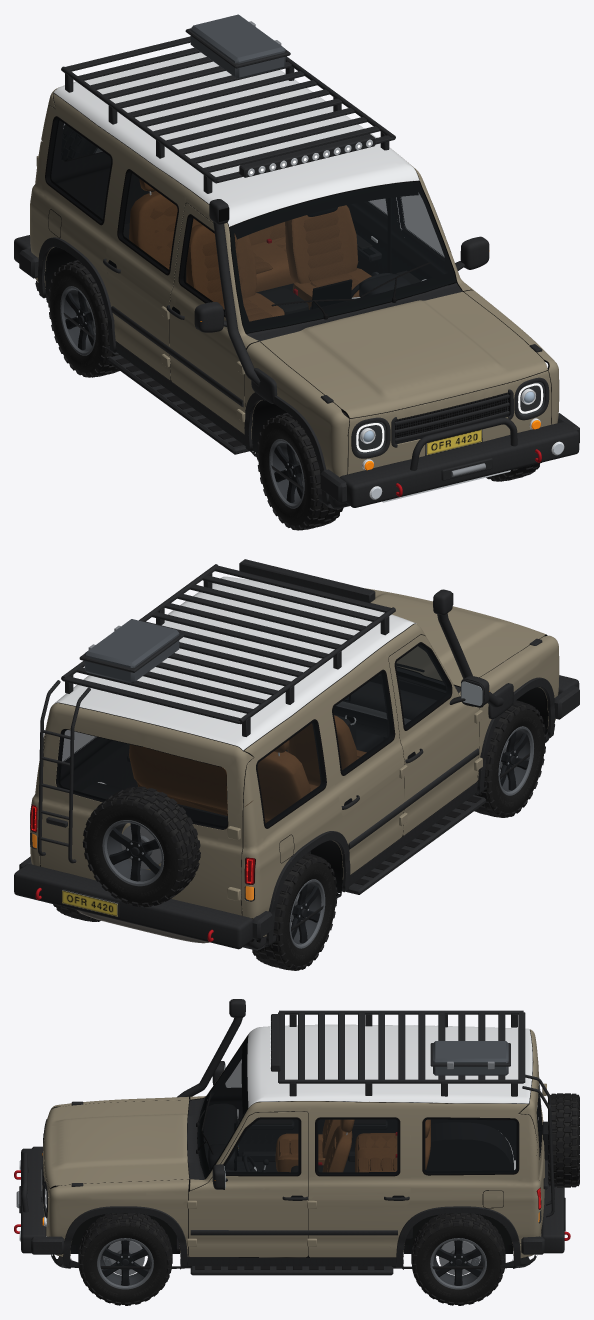
Rendered from boxy-off-roader.glb.
3 renders of one model, top to bottom at view 1: azimuth 30°, elevation 25°; view 2: azimuth 150°, elevation 25°; view 3: azimuth 270°, elevation 25°, orthographic. The views are drawn at different scales.
Parts seen in each view (by area): view 1: Body, Wheel_FR, Wheel_RR, Spare_Wheel; view 2: Body, Spare_Wheel, Wheel_RR, Wheel_FR; view 3: Body, Wheel_RL, Wheel_FL, Spare_Wheel.
Part boxes in pixels (x1=…): Body: x1=14, y1=14, x2=579, y2=509; Wheel_FR: x1=257, y1=412, x2=343, y2=530; Wheel_RR: x1=48, y1=260, x2=119, y2=377; Spare_Wheel: x1=61, y1=125, x2=102, y2=161; Body: x1=14, y1=559, x2=579, y2=950; Spare_Wheel: x1=82, y1=786, x2=200, y2=907; Wheel_RR: x1=250, y1=853, x2=337, y2=970; Wheel_FR: x1=474, y1=700, x2=546, y2=817; Body: x1=14, y1=999, x2=570, y2=1275; Wheel_RL: x1=411, y1=1213, x2=505, y2=1305; Wheel_FL: x1=78, y1=1213, x2=172, y2=1305; Spare_Wheel: x1=548, y1=1093, x2=579, y2=1187.
Bounding box in the file's own units: 2.29 × 2.21 × 4.86.
68 materials, 12 textured.
